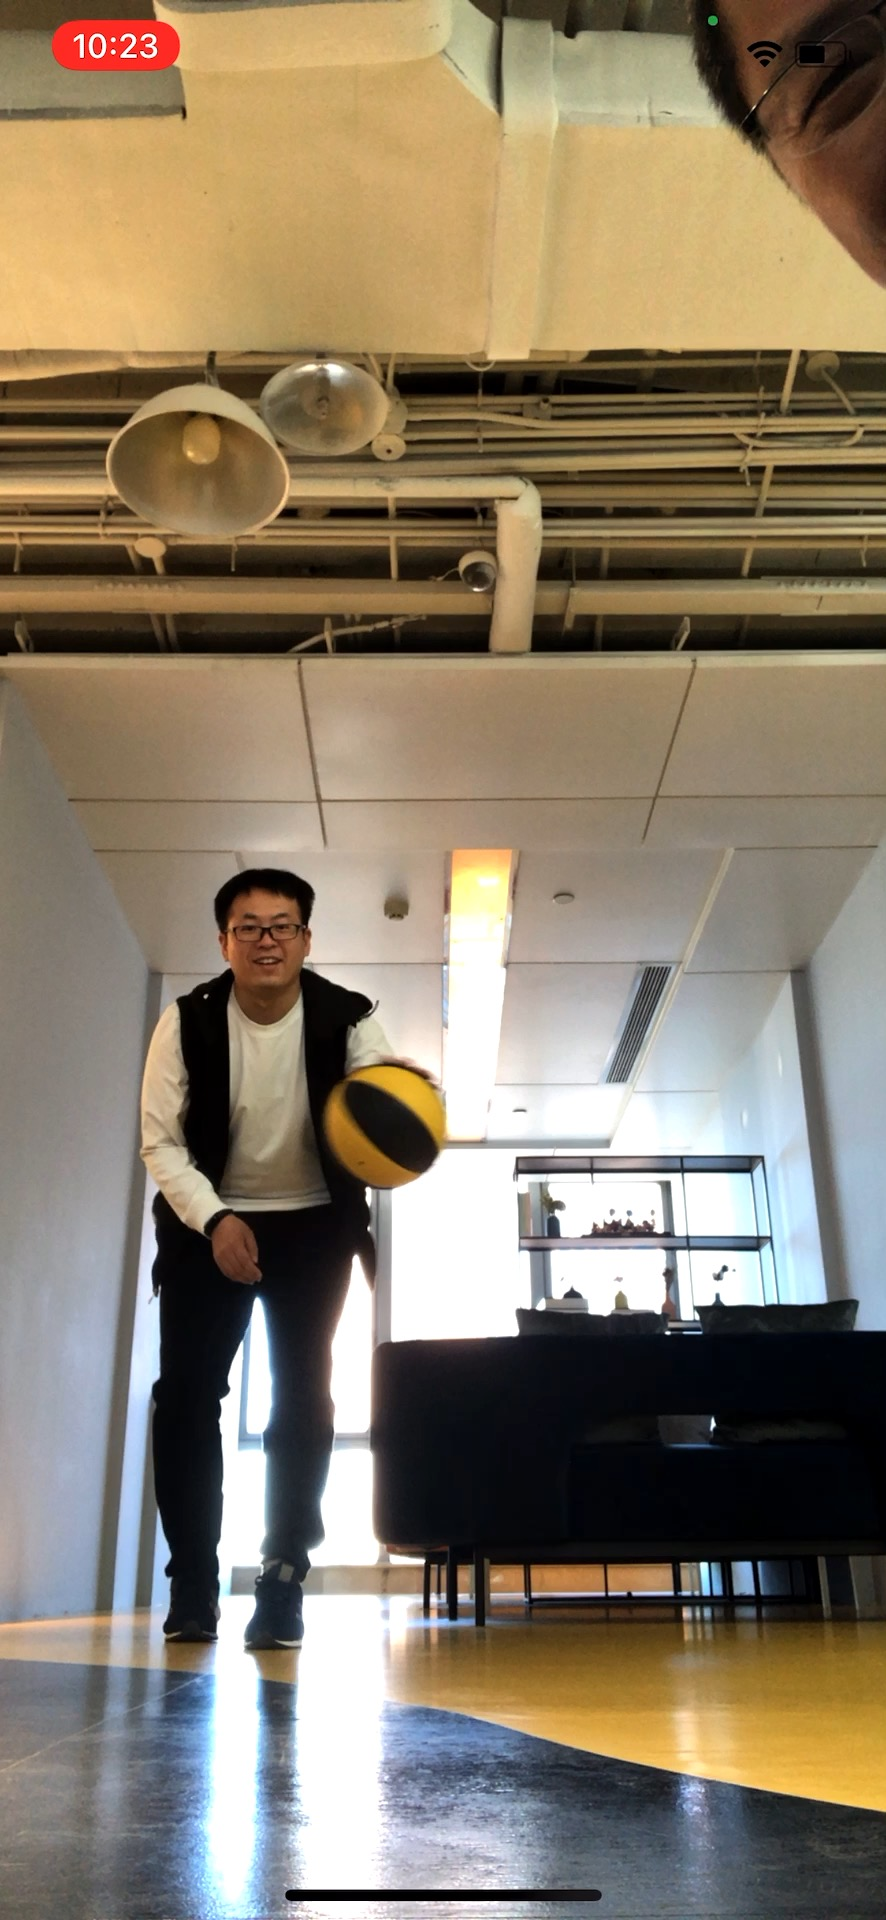ball: (323, 1059, 449, 1194)
